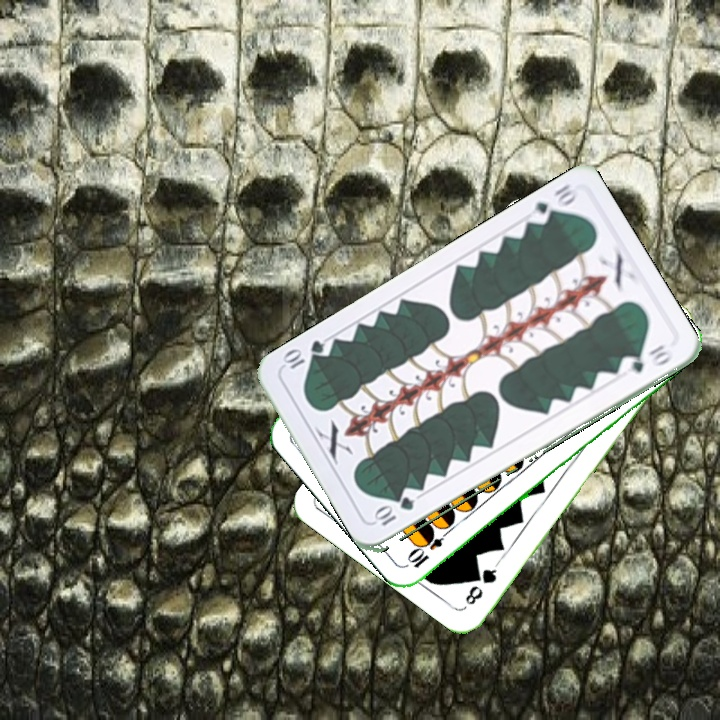E10: (404, 523, 454, 571)
G10: (524, 179, 579, 228), (371, 494, 417, 529)
G8: (461, 559, 501, 608)
